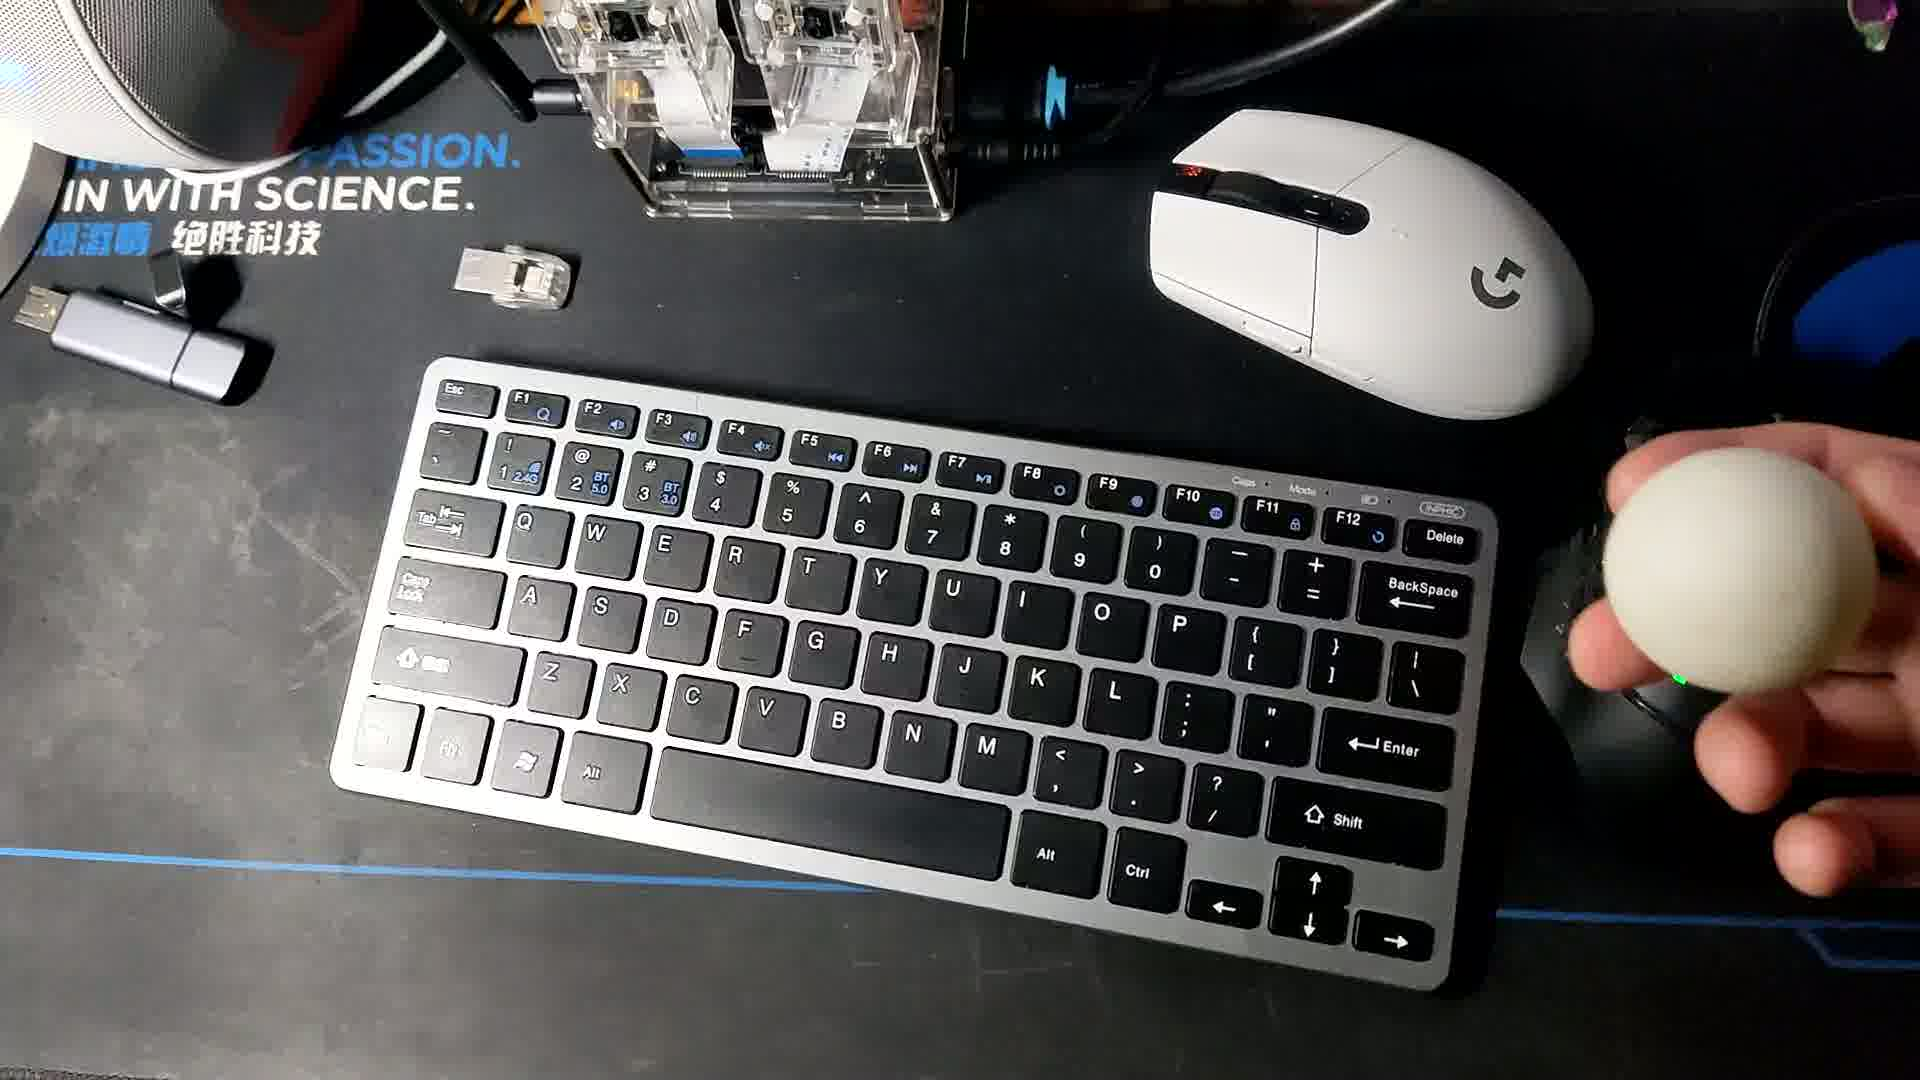Ball: (1611, 444, 1865, 691)
